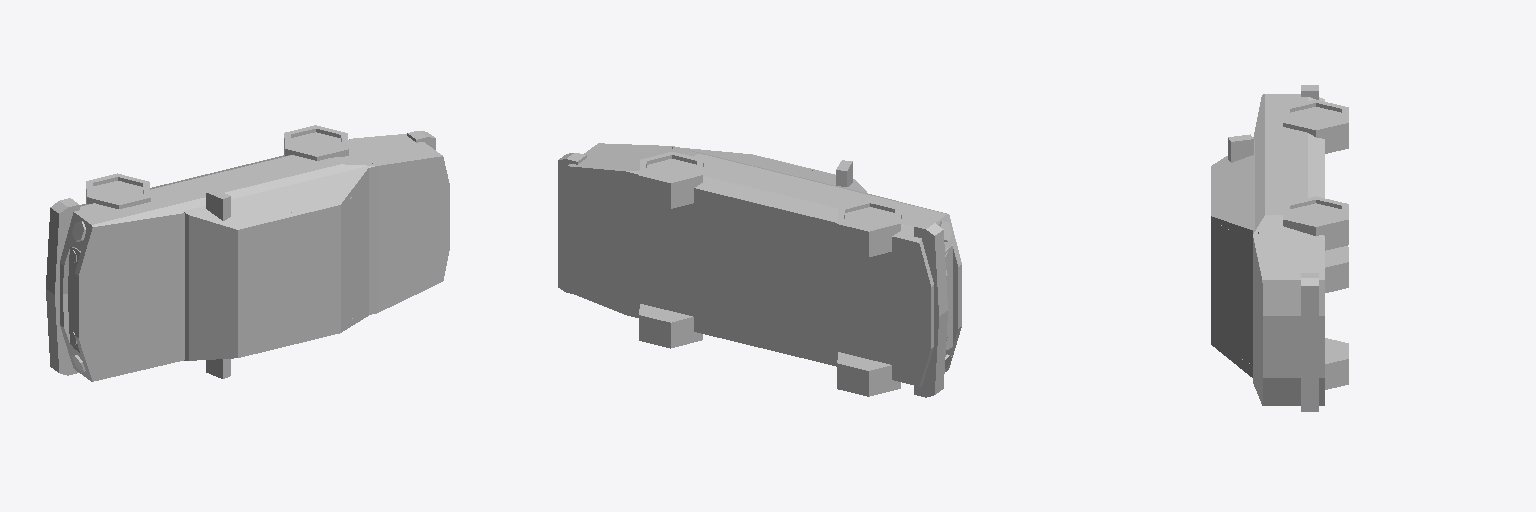
File: coche.obj
The picture shows the model from 3 angles: view 1: azimuth 30°, elevation 25°; view 2: azimuth 150°, elevation 25°; view 3: azimuth 270°, elevation 25°; orthographic projection.
Visible parts, largest first — view 1: obj_0; view 2: obj_0; view 3: obj_0.
Boxes of the visible parts, <box> form: obj_0: <box>46,125,449,381</box>; obj_0: <box>558,143,961,397</box>; obj_0: <box>1211,85,1348,411</box>.
Size of the model in its own units: 51 by 23 by 16.